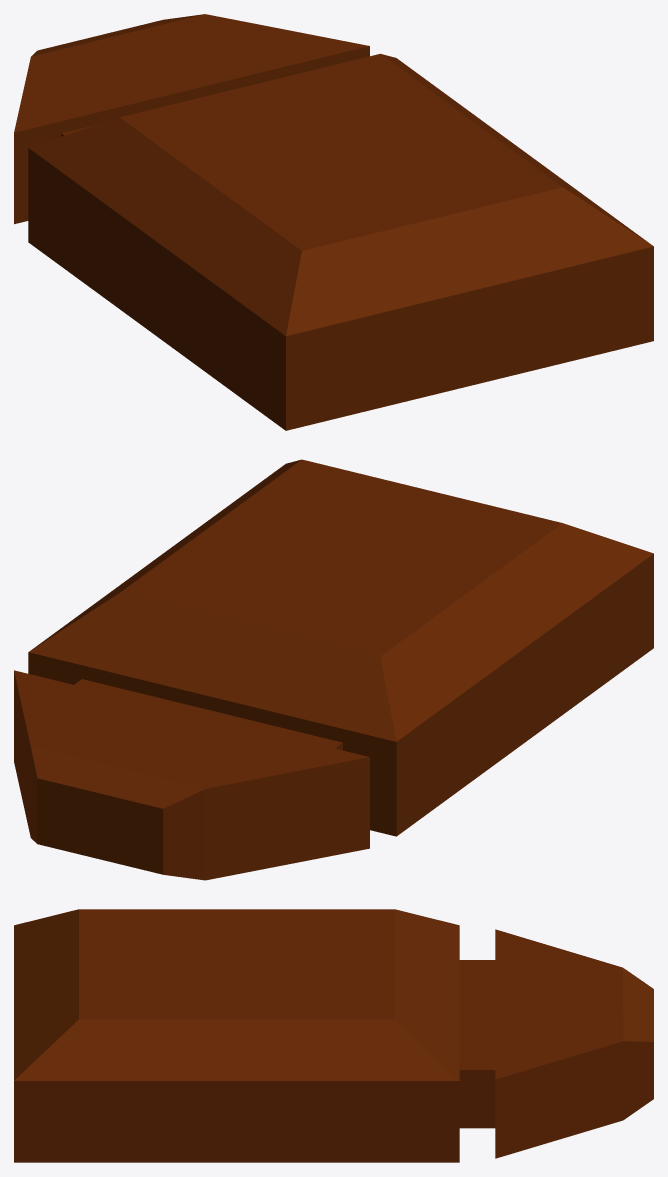
The model's file is Cucaracha.fbx.
The picture shows the model from 3 angles, top to bottom: view 1: azimuth 30°, elevation 25°; view 2: azimuth 150°, elevation 25°; view 3: azimuth 270°, elevation 25°; orthographic projection. The views are drawn at different scales.
Parts seen in each view (by area): view 1: Cucaracha; view 2: Cucaracha; view 3: Cucaracha.
Boxes of the visible parts, x1=… form: Cucaracha: x1=14, y1=14, x2=653, y2=430; Cucaracha: x1=14, y1=459, x2=653, y2=880; Cucaracha: x1=14, y1=909, x2=653, y2=1162.
Bounding box in the file's own units: 783 × 283 × 1362.
